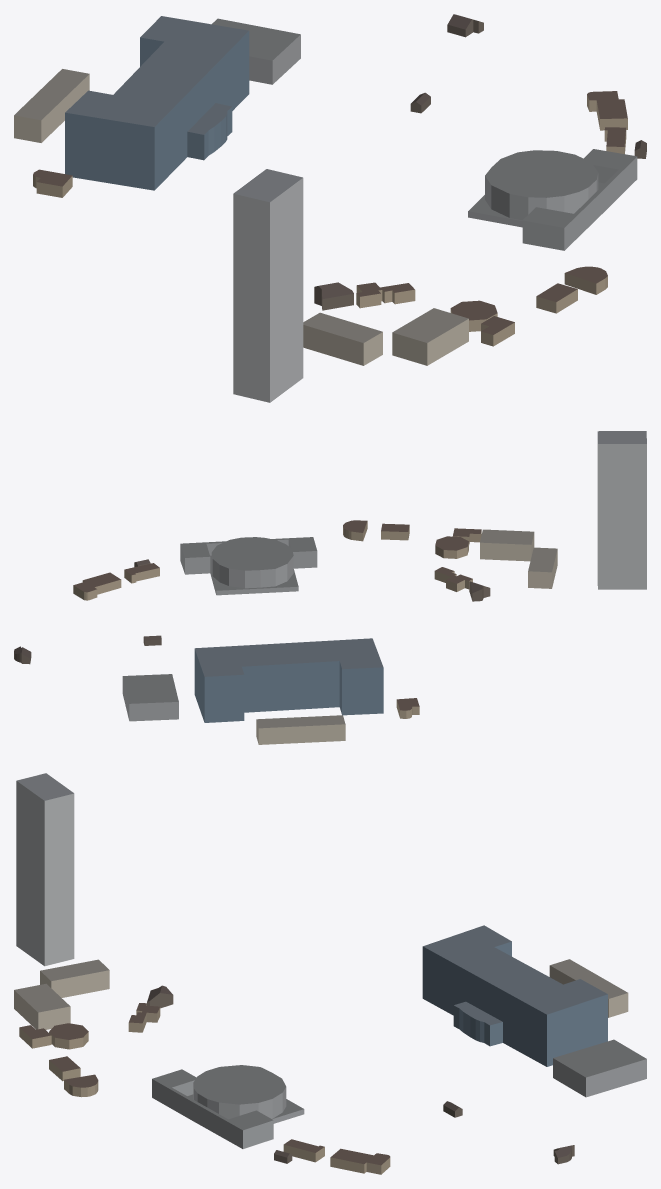
File: tile_3_8.glb
The picture shows the model from 3 angles, top to bottom: view 1: azimuth 30°, elevation 25°; view 2: azimuth 150°, elevation 25°; view 3: azimuth 270°, elevation 25°; orthographic projection. The views are drawn at different scales.
Parts seen in each view (by area): view 1: HP-w178801539, HP-w369317530, HP-w161090899, HP-w50417968, HP-w71308771, HP-w369317517, HP-w39764614, HP-w178731810, HP-w178731808, HP-w369317447, HP-w178731811, HP-w369317504 (+5 smaller); view 2: HP-w178801539, HP-w369317530, HP-w161090899, HP-w39764614, HP-w50417968, HP-w71308771, HP-w369317517, HP-w178731810, HP-w369317602, HP-w178731808, HP-w178731807, HP-w369317504 (+1 smaller); view 3: HP-w178801539, HP-w369317530, HP-w161090899, HP-w39764614, HP-w71308771, HP-w369317517, HP-w50417968, HP-w178731810, HP-w369317602, HP-w369317447, HP-w178731807, HP-w178731808 (+2 smaller).
Part boxes in pixels (x1,y1,x2,y2): HP-w178801539: (65, 16, 249, 190); HP-w369317530: (233, 169, 303, 402); HP-w161090899: (468, 149, 637, 250); HP-w50417968: (14, 69, 89, 142); HP-w71308771: (392, 308, 468, 365); HP-w369317517: (303, 312, 382, 365); HP-w39764614: (212, 18, 300, 84); HP-w178731810: (587, 91, 627, 130); HP-w178731808: (356, 282, 415, 308); HP-w369317447: (564, 266, 607, 294); HP-w178731811: (314, 282, 353, 310); HP-w369317504: (536, 283, 577, 313); HP-w178801539: (194, 638, 383, 722); HP-w369317530: (597, 431, 646, 589); HP-w161090899: (180, 537, 317, 595); HP-w39764614: (122, 674, 178, 721); HP-w50417968: (256, 715, 345, 744); HP-w71308771: (480, 529, 534, 561); HP-w369317517: (528, 547, 557, 588); HP-w178731810: (73, 572, 121, 600); HP-w369317602: (435, 536, 468, 558); HP-w178731808: (434, 567, 472, 591); HP-w178731807: (124, 563, 159, 583); HP-w369317504: (381, 523, 409, 540); HP-w178801539: (422, 925, 607, 1066); HP-w369317530: (16, 773, 74, 966); HP-w161090899: (152, 1065, 304, 1148); HP-w39764614: (553, 1039, 646, 1097); HP-w71308771: (14, 983, 70, 1029); HP-w369317517: (40, 959, 109, 997); HP-w50417968: (549, 959, 628, 1017); HP-w178731810: (330, 1148, 390, 1174); HP-w369317602: (49, 1023, 88, 1049); HP-w369317447: (64, 1074, 98, 1097); HP-w178731807: (283, 1139, 324, 1162); HP-w178731808: (128, 1003, 160, 1032).
Size of the model in its own units: 483 by 158 by 547.
